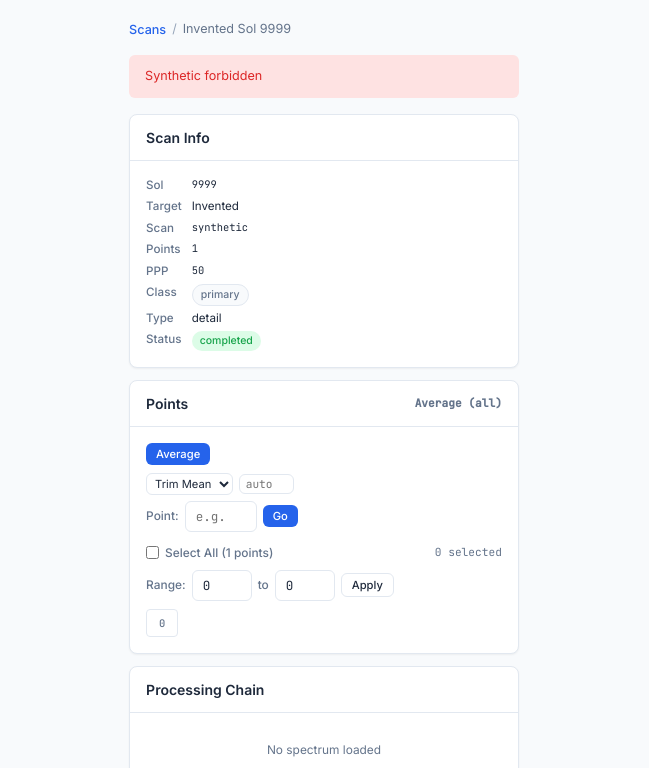
it: ProcessingWorkbench evidence session boundaries › validates a later successful selection after a denied initial spectrum
This screenshot has width=649, height=768.
Step 1. Click the button "0" → (162, 623), box [146,609,178,637]
(page scrolled)
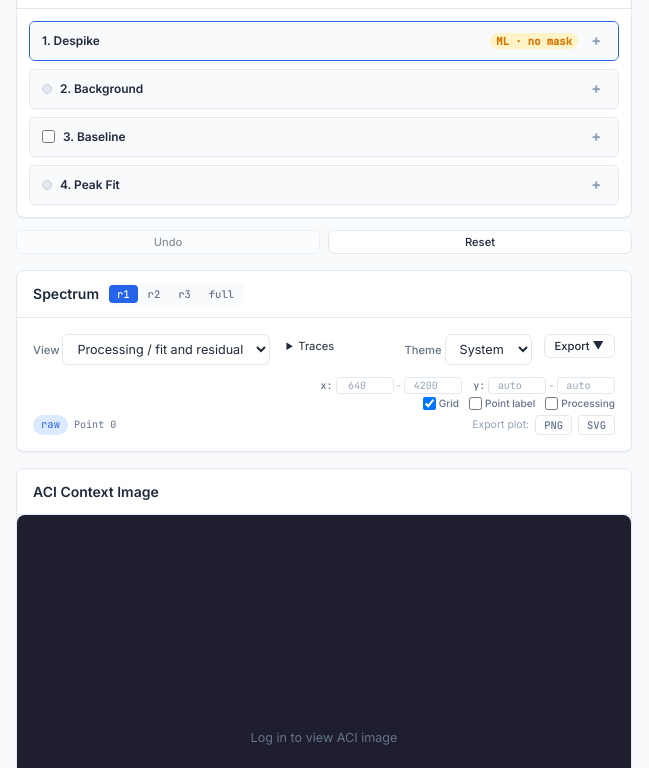
Expected: the element named "Evidence desk" is shown, [33,334,615,435]
